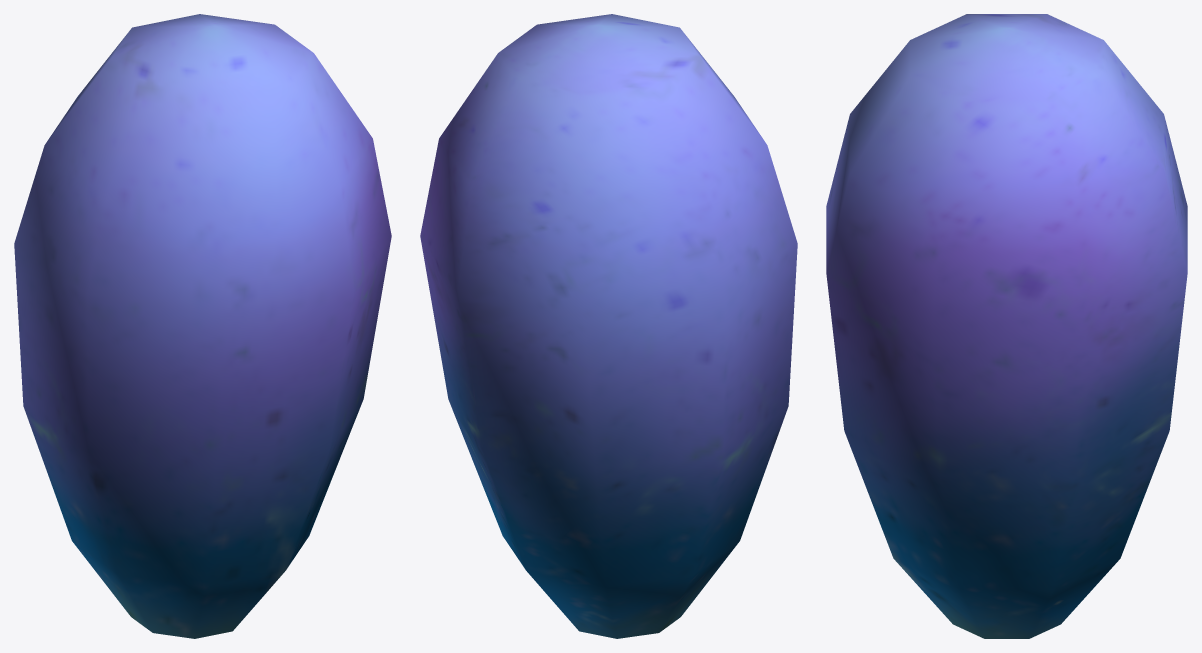
File: Sce_Aquarium_Hawaii01_SeaAnemone15_d.FBX
3 renders of one model, left to right at view 1: azimuth 30°, elevation 25°; view 2: azimuth 150°, elevation 25°; view 3: azimuth 270°, elevation 25°, orthographic. The views are drawn at different scales.
Visible parts, largest first — view 1: Sce_Aquarium_Hawaii01_SeaAnemone15_d; view 2: Sce_Aquarium_Hawaii01_SeaAnemone15_d; view 3: Sce_Aquarium_Hawaii01_SeaAnemone15_d.
Boxes of the visible parts, x1,y1,x2,y2 form: Sce_Aquarium_Hawaii01_SeaAnemone15_d: (14, 14, 391, 638); Sce_Aquarium_Hawaii01_SeaAnemone15_d: (420, 14, 797, 638); Sce_Aquarium_Hawaii01_SeaAnemone15_d: (826, 14, 1187, 638).
Size of the model in its own units: 0.312 by 0.5836 by 0.3123.
